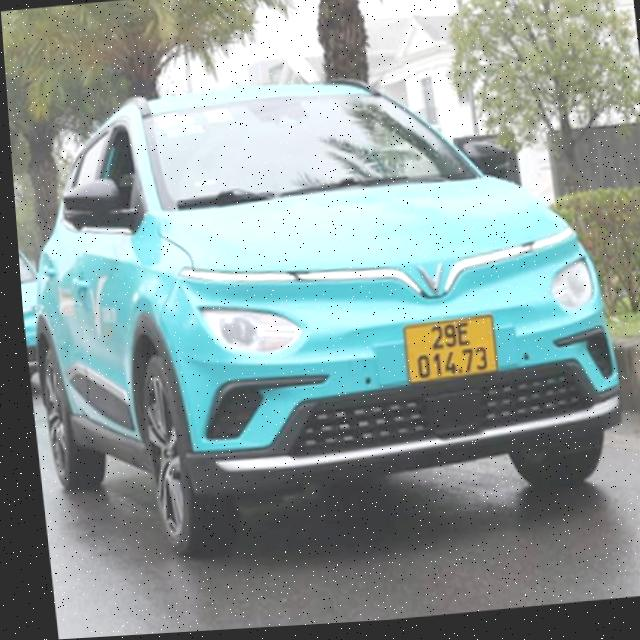car: (6, 44, 640, 582)
plate: (393, 306, 509, 390)
